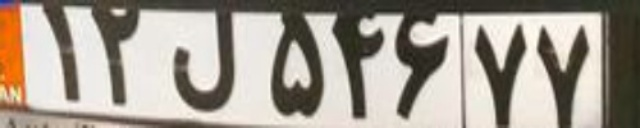1: (40, 0, 83, 100)
2: (88, 0, 144, 104)
4: (330, 0, 383, 119)
5: (264, 1, 325, 118)
6: (392, 1, 448, 118)
7: (471, 21, 527, 127), (536, 21, 591, 127)
lam: (169, 1, 237, 112)
